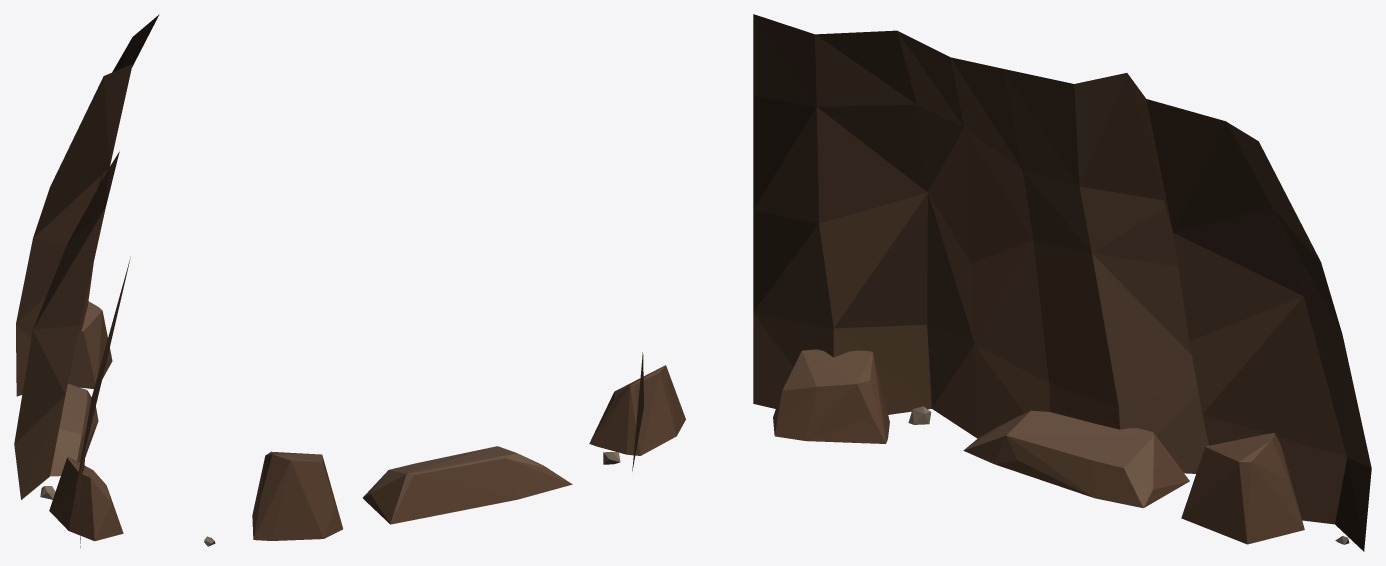
Rendered from tl_env_cave_wall_02_v01.glb.
The picture shows the model from 3 angles, left to right: view 1: azimuth 30°, elevation 25°; view 2: azimuth 150°, elevation 25°; view 3: azimuth 270°, elevation 25°; orthographic projection. The views are drawn at different scales.
Parts seen in each view (by area): view 1: tl_env_cave_wall_02_v01; view 2: tl_env_cave_wall_02_v01; view 3: tl_env_cave_wall_02_v01.
Part boxes in pixels (x1,y1,x2,y2): tl_env_cave_wall_02_v01: (14, 14, 159, 547); tl_env_cave_wall_02_v01: (204, 352, 685, 546); tl_env_cave_wall_02_v01: (753, 14, 1371, 551).
Size of the model in its own units: 12.05 by 13.95 by 17.78.
